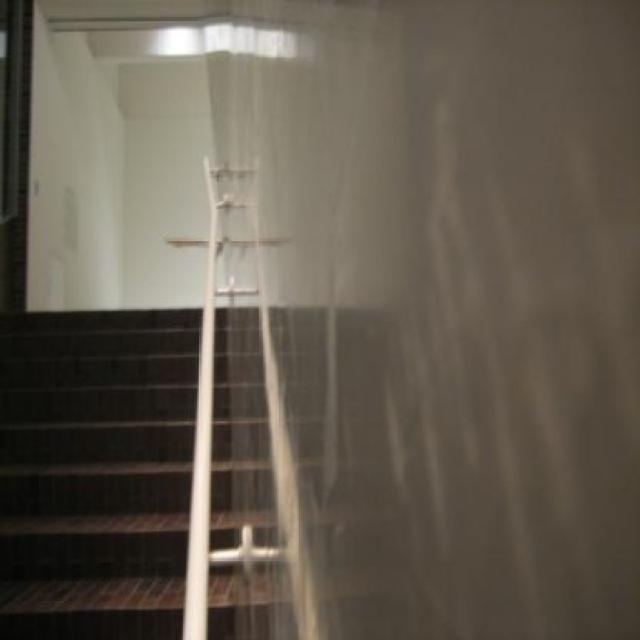stair: (0, 306, 234, 640)
